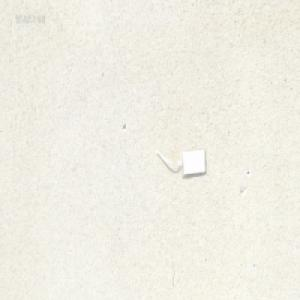LuggageTag: (155, 147, 207, 176)
